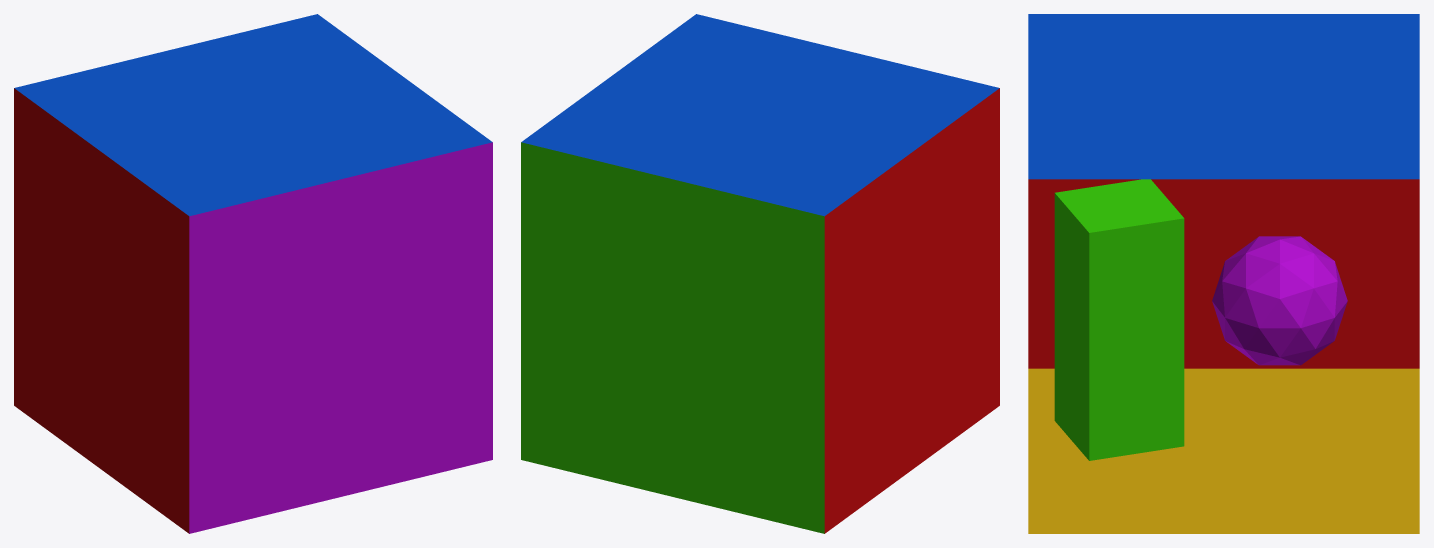
Rendered from cornell_box.obj.
The picture shows the model from 3 angles, left to right: view 1: azimuth 30°, elevation 25°; view 2: azimuth 150°, elevation 25°; view 3: azimuth 270°, elevation 25°; orthographic projection. The views are drawn at different scales.
Parts seen in each view (by area): view 1: Plane.002, Plane.003, Plane.001; view 2: Plane.004, Plane.003, Plane.001; view 3: Plane.001, Plane, Plane.003, Cube, Icosphere.
Boxes of the visible parts, x1,y1,x2,y2 form: Plane.002: (189, 142, 492, 533); Plane.003: (14, 88, 189, 533); Plane.001: (14, 14, 492, 216); Plane.004: (521, 142, 824, 533); Plane.003: (824, 88, 999, 533); Plane.001: (521, 14, 999, 216); Plane.001: (1028, 14, 1419, 179); Plane: (1028, 368, 1419, 533); Plane.003: (1028, 179, 1419, 368); Cube: (1054, 179, 1184, 460); Icosphere: (1212, 236, 1347, 365).
Size of the model in its own units: 2 by 2 by 2.
